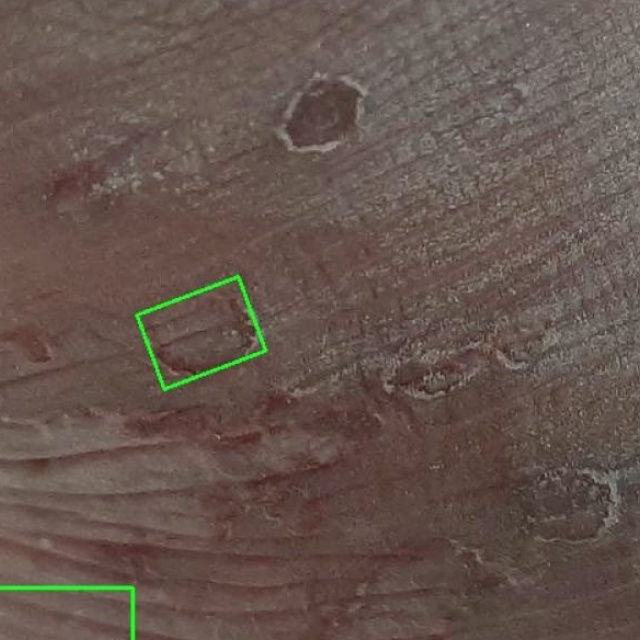Contact Dermatitis: (137, 277, 266, 389)
